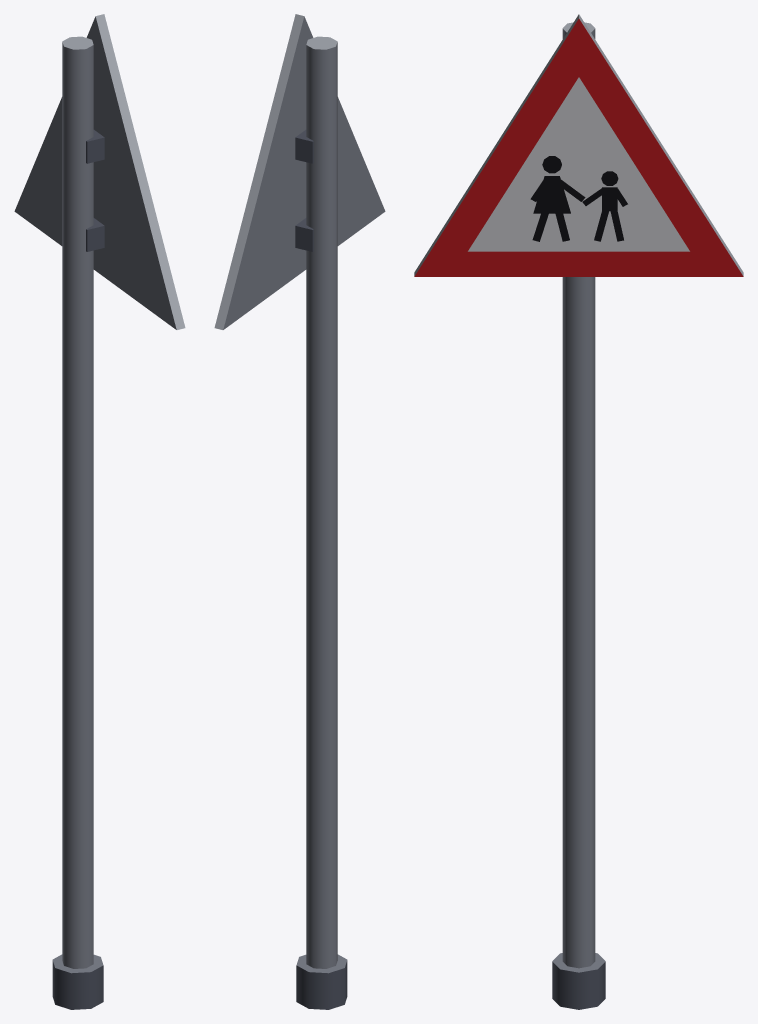
File: sign_school.glb
3 renders of one model, left to right at view 1: azimuth 30°, elevation 25°; view 2: azimuth 150°, elevation 25°; view 3: azimuth 270°, elevation 25°, orthographic.
Parts seen in each view (by area): view 1: Sign; view 2: Sign; view 3: Sign.
Part boxes in pixels (x1=…): Sign: x1=14, y1=14, x2=185, y2=1009; Sign: x1=214, y1=14, x2=385, y2=1009; Sign: x1=414, y1=14, x2=743, y2=1009.
Bounding box in the file's own units: 0.17 × 2.66 × 0.8.
